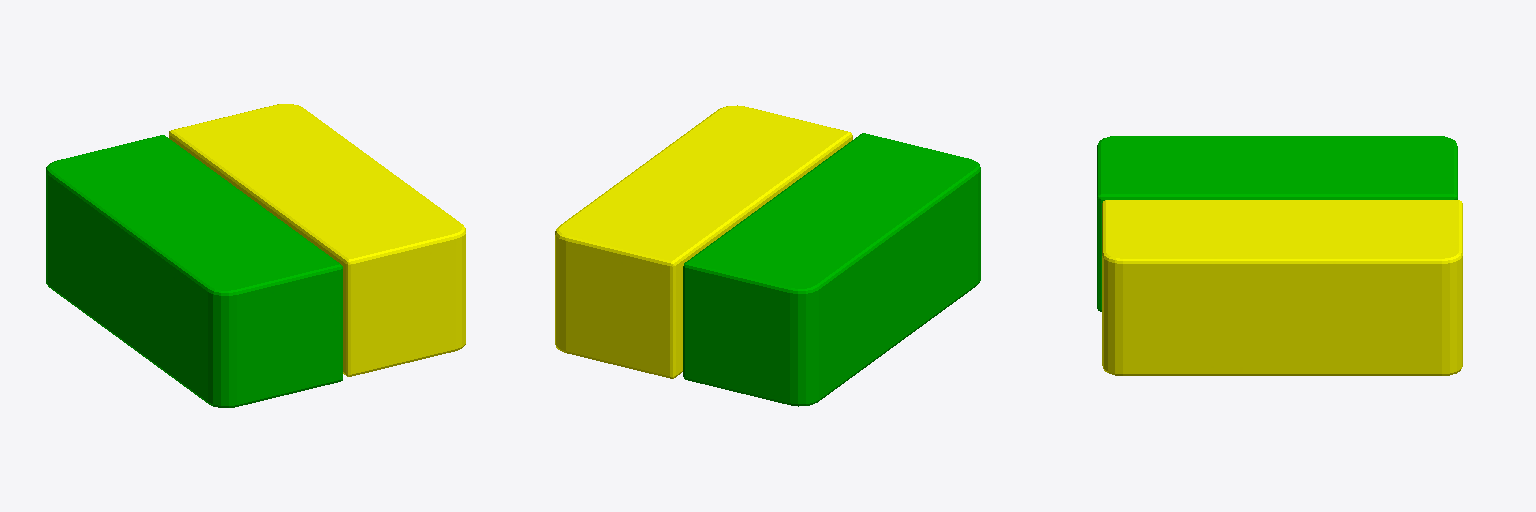
3 views of the same model, side by side, from view 1: azimuth 30°, elevation 25°; view 2: azimuth 150°, elevation 25°; view 3: azimuth 270°, elevation 25° (orthographic).
Parts seen in each view (by area): view 1: briks.005; view 2: briks.005; view 3: briks.005.
Part boxes in pixels (left/top/right/bottom): briks.005: left=46, top=104, right=465, bottom=407; briks.005: left=555, top=105, right=980, bottom=406; briks.005: left=1097, top=136, right=1462, bottom=375.
Size of the model in its own units: 1.73 by 0.7491 by 2.12.
2 materials, 1 textured.